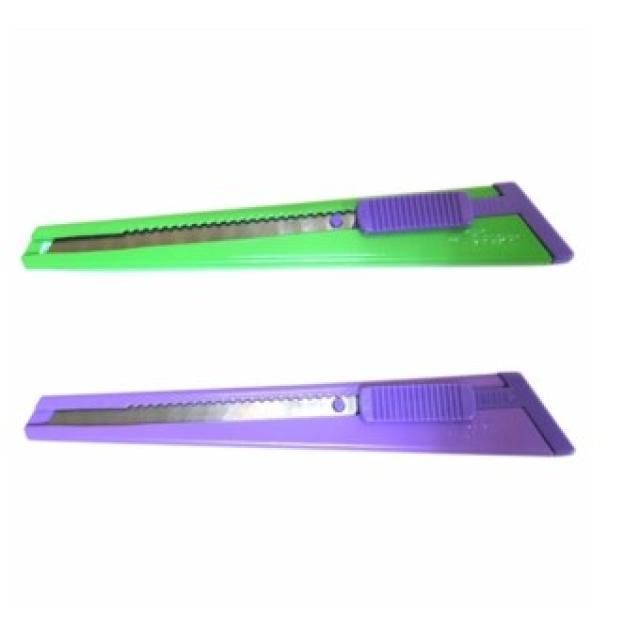cutter: (18, 174, 580, 276), (24, 372, 584, 464)
